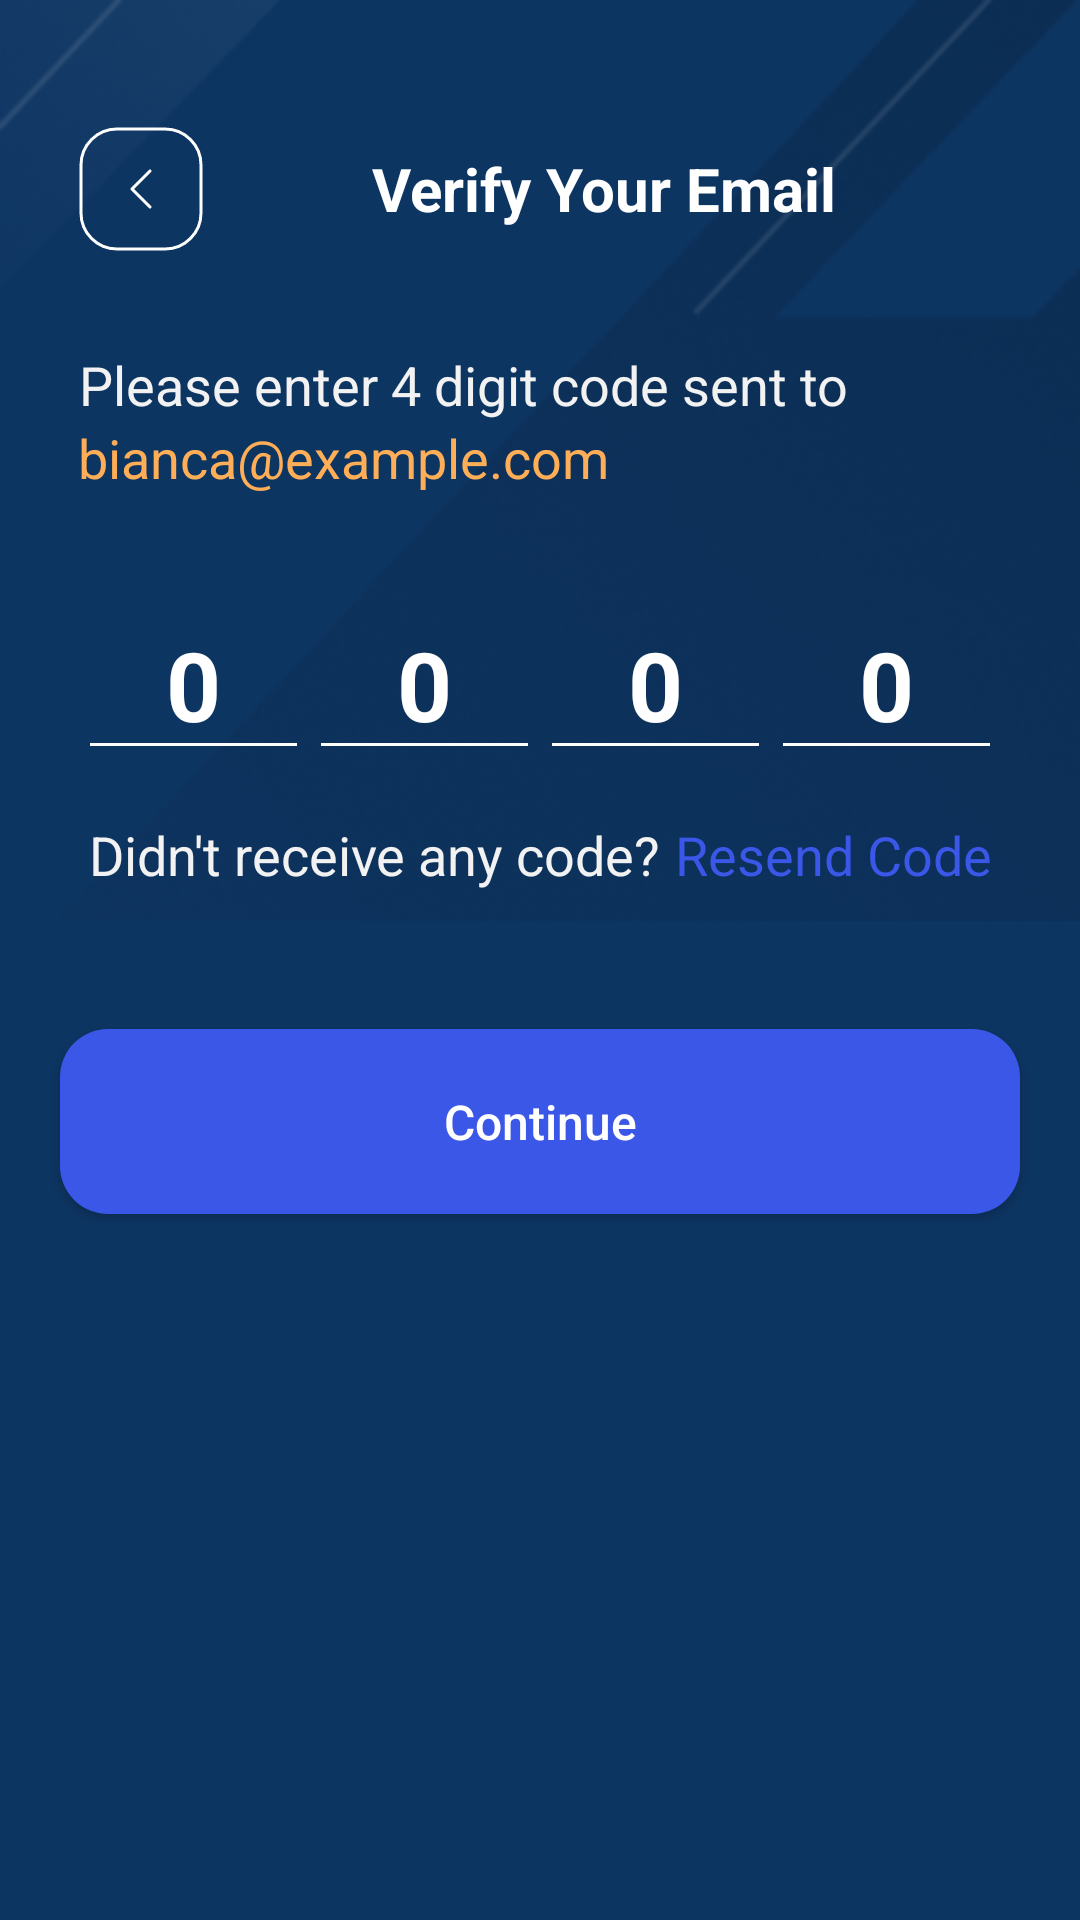

Named icons in this screenshot (1080x1920) and their bounding boxes, bbox(x1, y1, x2, y2):
back: bbox(79, 127, 203, 251)
